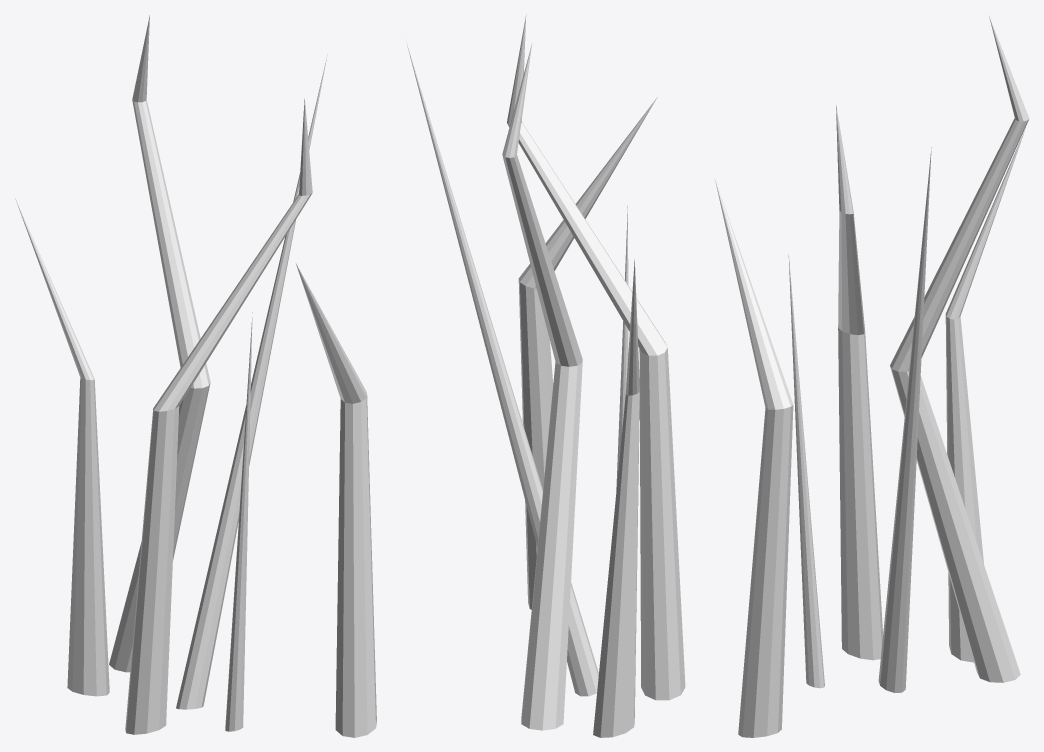
Rendered from ramas4.fbx.
3 renders of one model, left to right at view 1: azimuth 30°, elevation 25°; view 2: azimuth 150°, elevation 25°; view 3: azimuth 270°, elevation 25°, orthographic. The views are drawn at different scales.
Visible parts, largest first — view 1: ramas7; view 2: ramas7; view 3: ramas7.
Part boxes in pixels (x1,y1,x2,y2): ramas7: (15, 15, 376, 737); ramas7: (406, 14, 685, 737); ramas7: (714, 16, 1029, 737).
Bounding box in the file's own units: 142 × 334 × 141.
